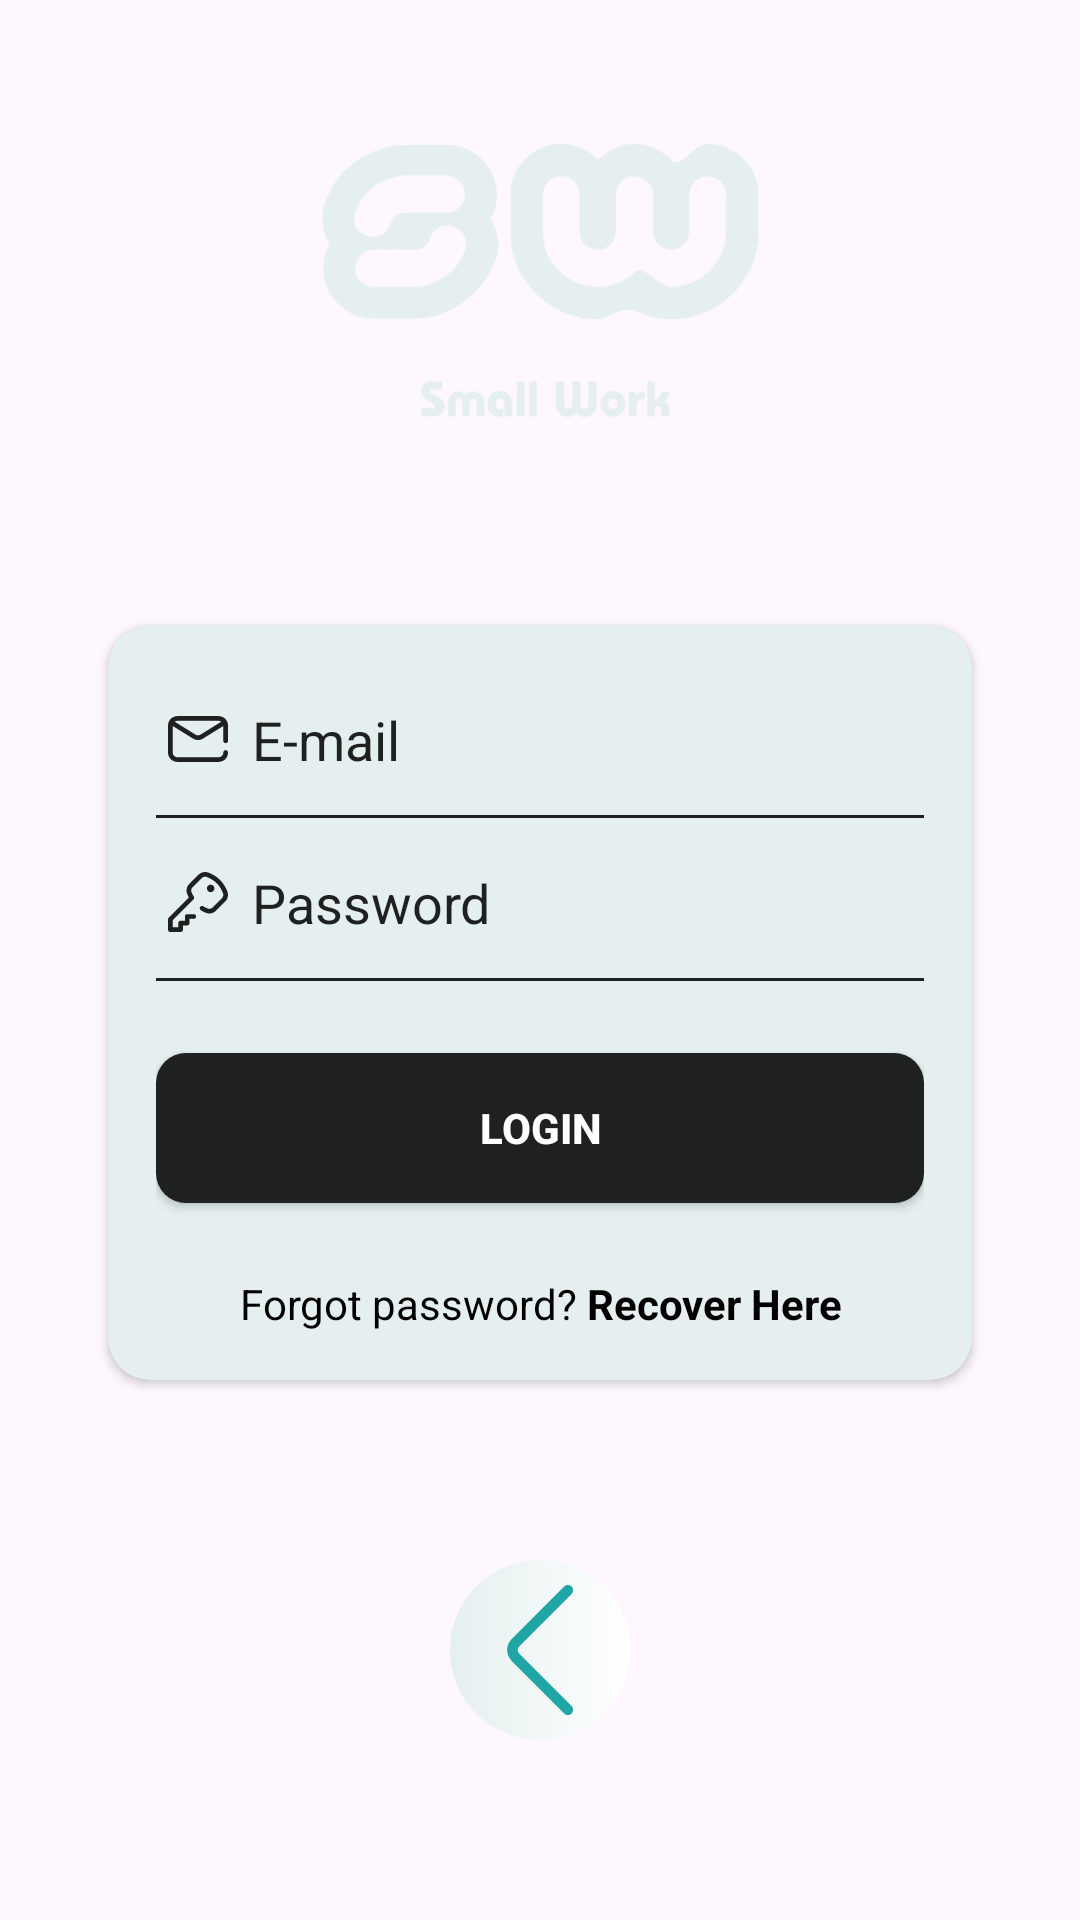

Screen size 1080px×1920px. Icon name, then its center in pixels as [x,y]:
left arrow: [512,1650]
